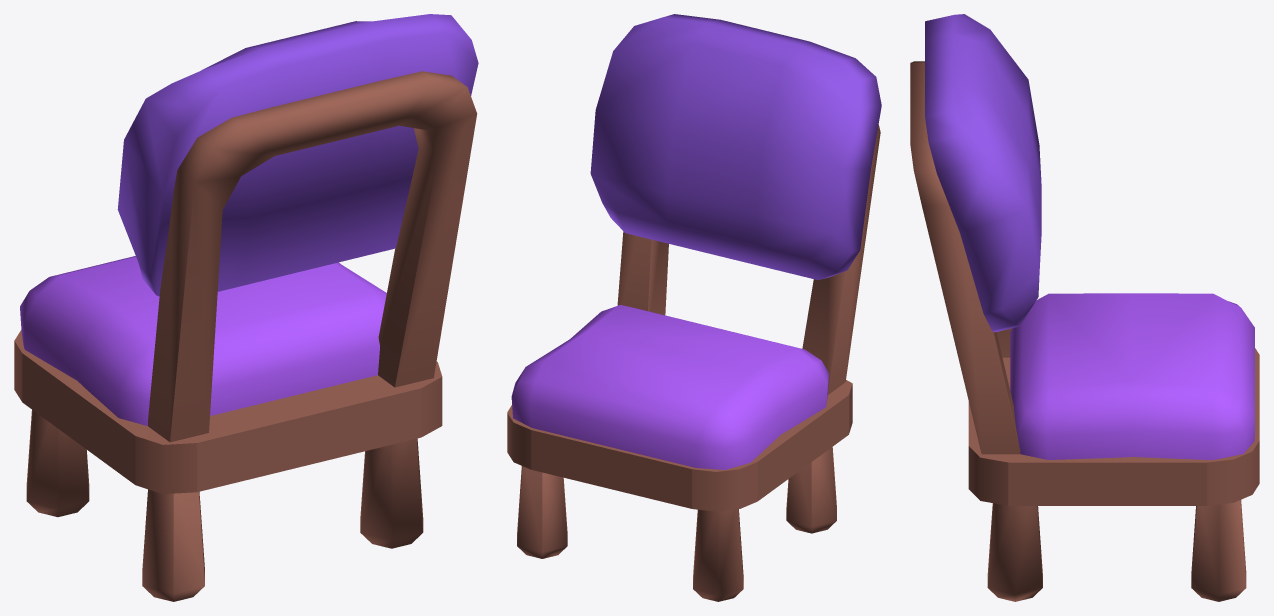
File: ChairC1_geo.fbx
3 views of the same model, side by side, from view 1: azimuth 30°, elevation 25°; view 2: azimuth 150°, elevation 25°; view 3: azimuth 270°, elevation 25° (orthographic). The views are drawn at different scales.
Visible parts, largest first — view 1: ChairC1_geo; view 2: ChairC1_geo; view 3: ChairC1_geo.
Part boxes in pixels (<box>): ChairC1_geo: <box>14,14,478,601</box>; ChairC1_geo: <box>507,14,881,601</box>; ChairC1_geo: <box>910,14,1259,601</box>.
Size of the model in its own units: 0.4973 by 0.5655 by 0.8748.
